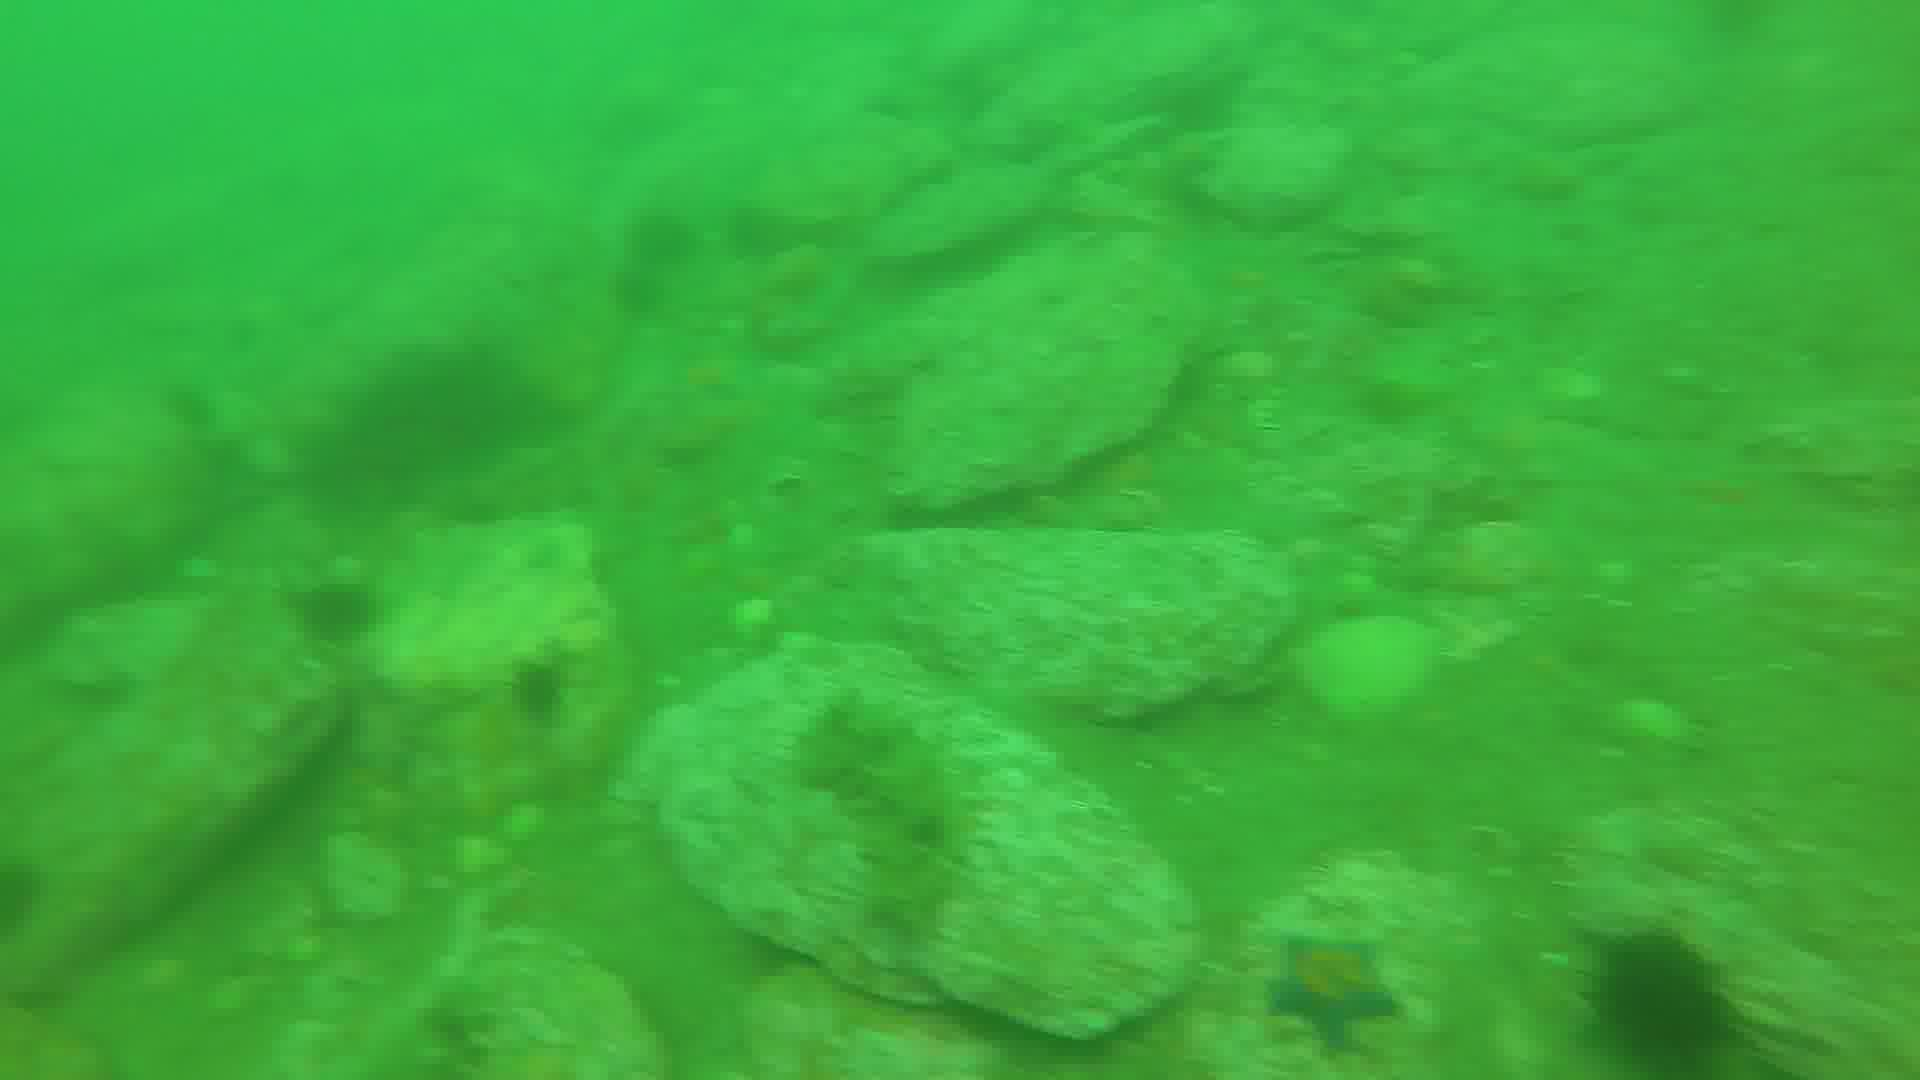echinus: (1576, 932, 1734, 1080)
holothurian: (804, 694, 972, 936)
starfish: (1262, 932, 1393, 1062)
